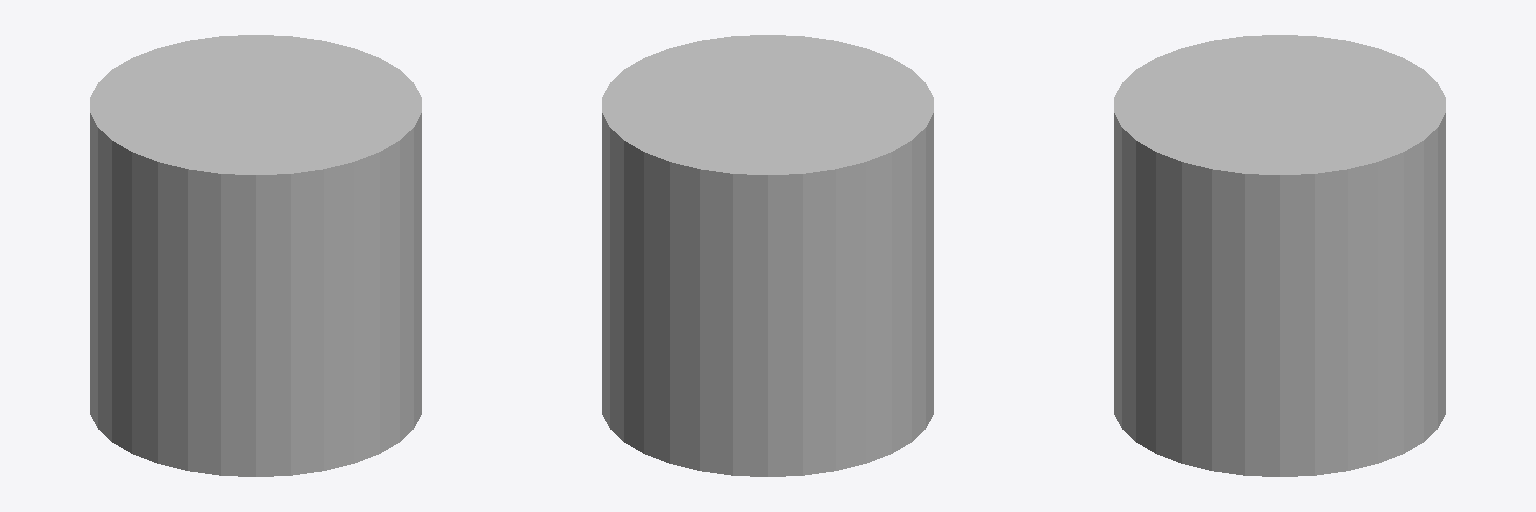
Rendered from highRes_Cylinder.obj.
3 renders of one model, left to right at view 1: azimuth 30°, elevation 25°; view 2: azimuth 150°, elevation 25°; view 3: azimuth 270°, elevation 25°, orthographic.
Bounding box in the file's own units: 1 × 1 × 0.9945.